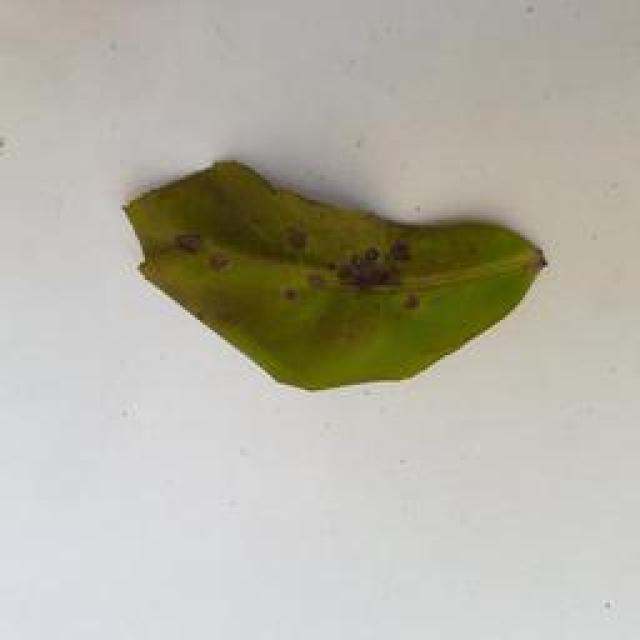Helopeltis: (121, 154, 554, 403)
